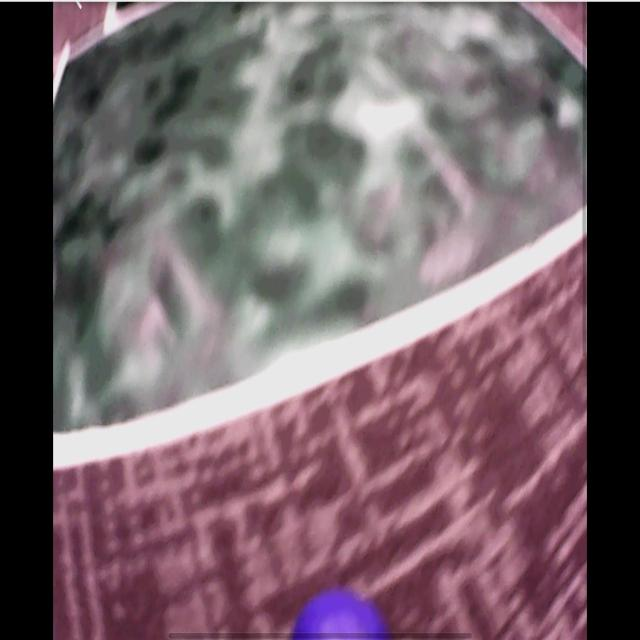ball: (293, 594, 386, 640)
